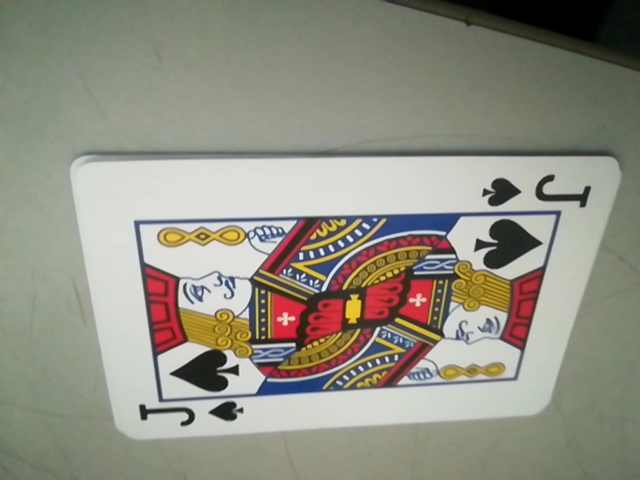ht j: (477, 167, 594, 213)
